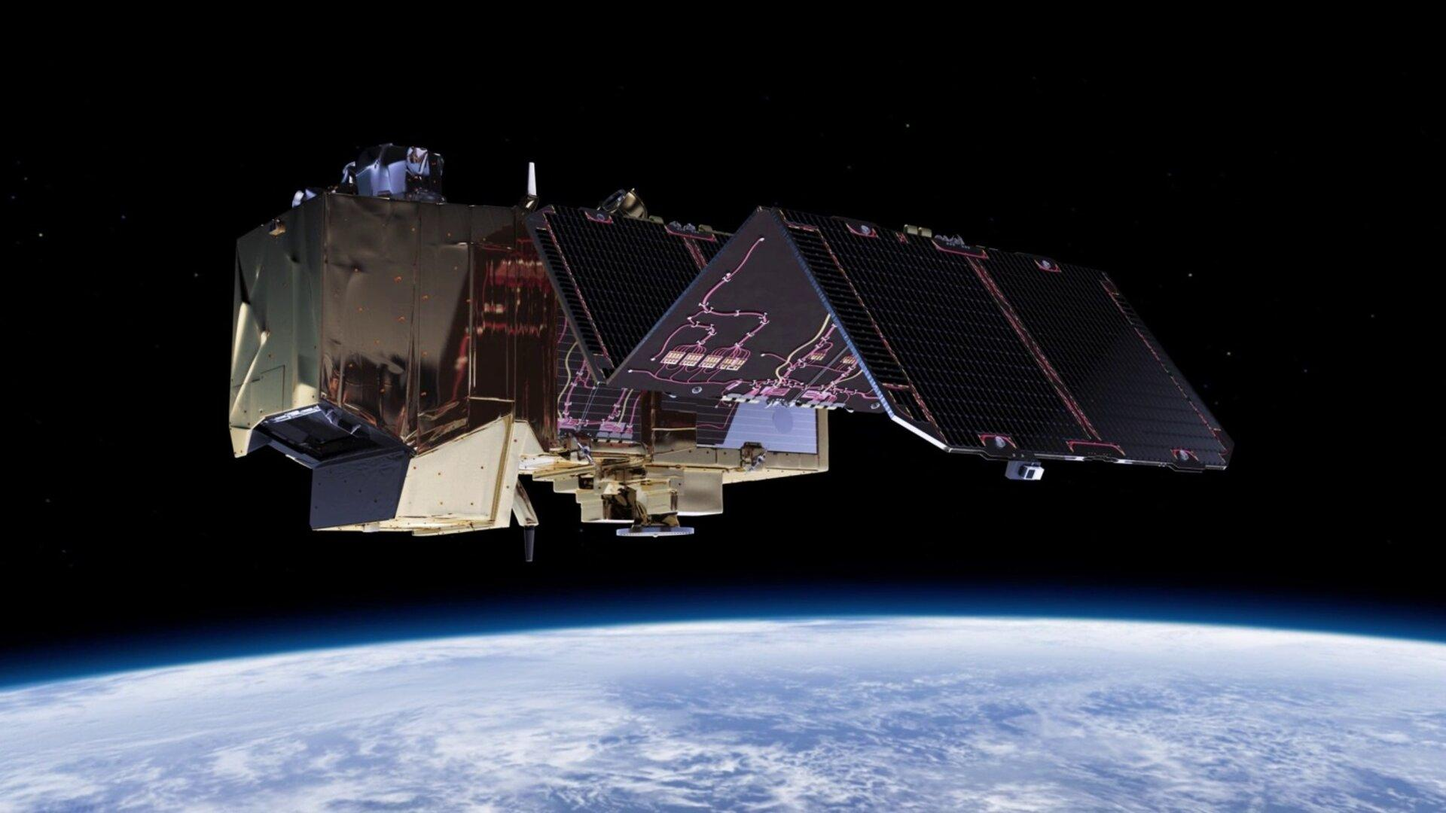body: (224, 136, 832, 541)
solar: (520, 201, 1241, 474)
